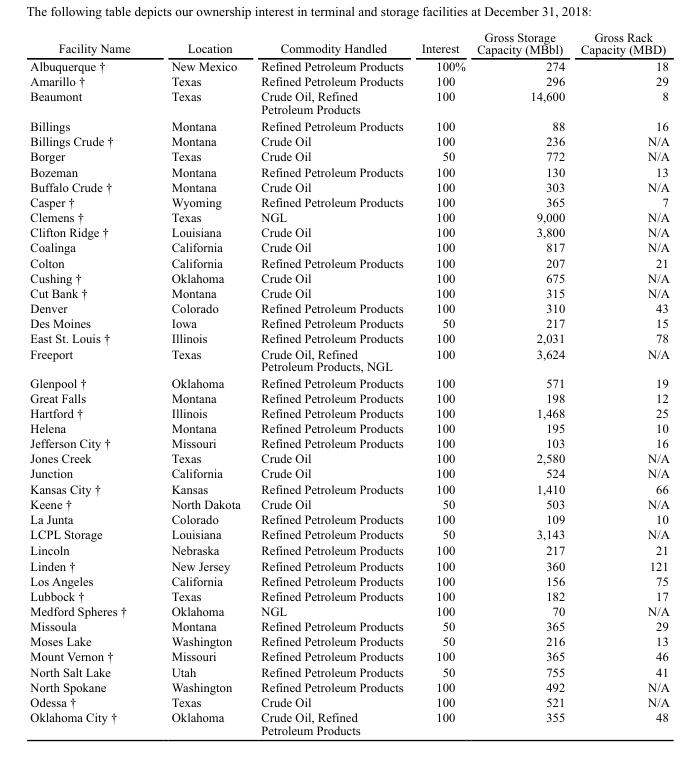table: (29, 29, 668, 736)
table column: (250, 29, 411, 736), (29, 29, 150, 736), (470, 29, 572, 736), (150, 29, 250, 736), (572, 29, 668, 736), (411, 29, 470, 736)
table column header: (29, 29, 668, 57)
table row: (29, 88, 668, 117), (29, 345, 668, 374), (29, 29, 668, 57), (29, 709, 668, 736), (29, 72, 668, 88), (29, 117, 668, 133), (29, 178, 668, 194), (29, 269, 668, 285), (29, 404, 668, 420), (29, 495, 668, 511), (29, 526, 668, 542), (29, 572, 668, 588), (29, 678, 668, 694), (29, 57, 668, 72), (29, 133, 668, 148), (29, 148, 668, 163), (29, 163, 668, 178), (29, 194, 668, 209), (29, 209, 668, 224), (29, 224, 668, 239), (29, 239, 668, 254), (29, 254, 668, 269), (29, 285, 668, 300), (29, 300, 668, 315), (29, 315, 668, 330), (29, 330, 668, 345), (29, 374, 668, 389), (29, 389, 668, 404), (29, 420, 668, 435), (29, 435, 668, 450), (29, 450, 668, 465), (29, 465, 668, 480), (29, 480, 668, 495), (29, 511, 668, 526), (29, 542, 668, 557), (29, 557, 668, 572), (29, 588, 668, 603), (29, 603, 668, 618), (29, 618, 668, 633), (29, 633, 668, 648), (29, 648, 668, 663), (29, 663, 668, 678), (29, 694, 668, 709)
